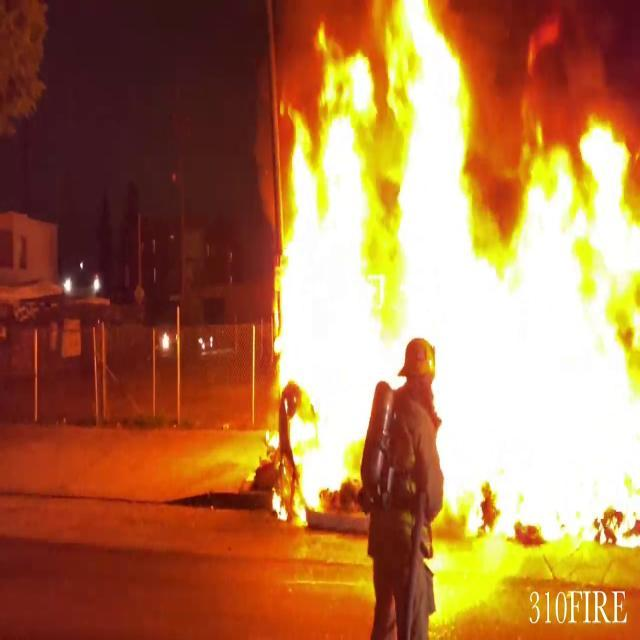Fire: (262, 1, 640, 552)
